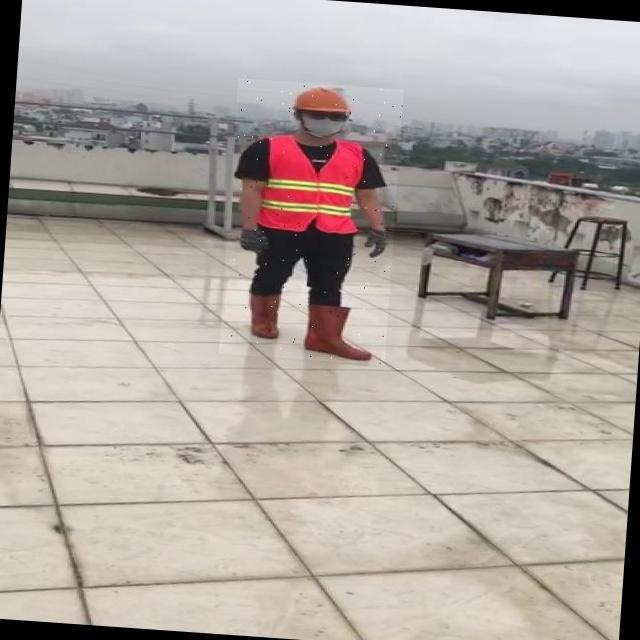Gloves: (236, 227, 272, 254), (359, 228, 389, 259)
Helmet: (286, 80, 357, 114)
Human: (219, 78, 404, 365)
Safety Boot: (300, 301, 379, 359), (245, 292, 282, 338)
Safety Vest: (261, 134, 369, 235)
